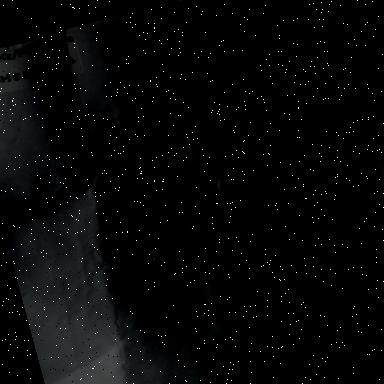pbw: (333, 212, 358, 236), (340, 315, 366, 335), (210, 234, 237, 252), (208, 222, 234, 240), (143, 242, 163, 265), (221, 336, 240, 358), (191, 308, 209, 328)
